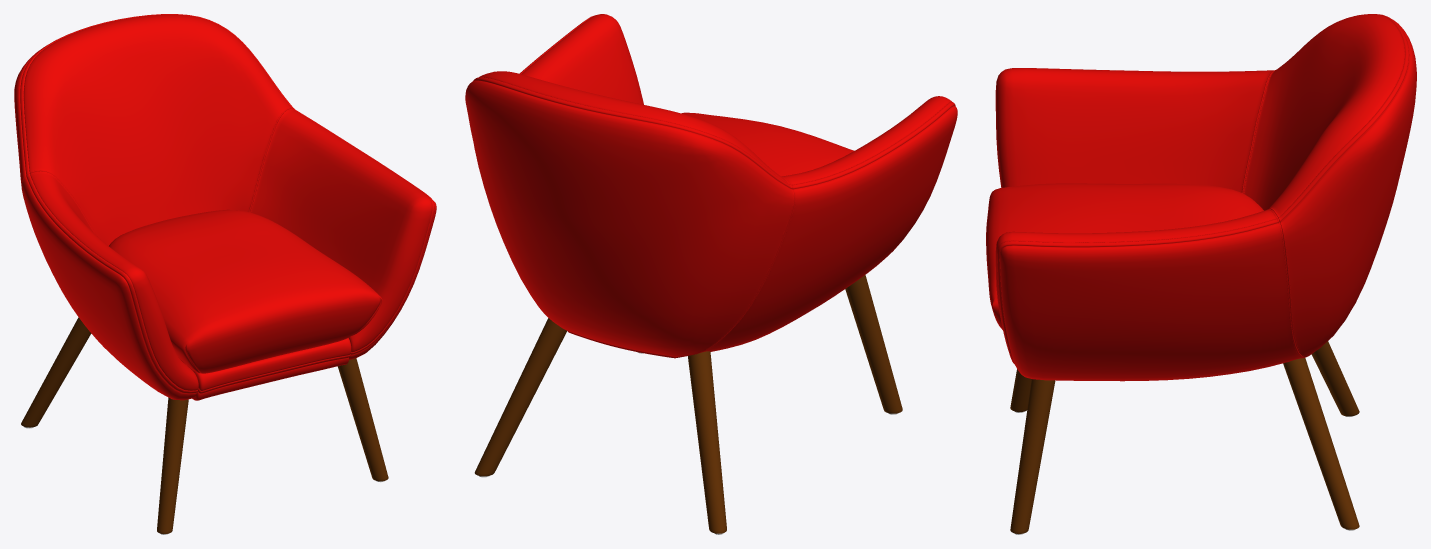
File: LorisWoodVariants.glb
3 renders of one model, left to right at view 1: azimuth 30°, elevation 25°; view 2: azimuth 150°, elevation 25°; view 3: azimuth 270°, elevation 25°, orthographic. The views are drawn at different scales.
Parts seen in each view (by area): view 1: Loris Armchair - Back, Loris Armchair - Seat, Loris Armchair - Legs; view 2: Loris Armchair - Back, Loris Armchair - Legs, Loris Armchair - Seat, Loris Armchair - Stiches; view 3: Loris Armchair - Back, Loris Armchair - Seat, Loris Armchair - Legs, Loris Armchair - Stiches.
Part boxes in pixels (x1,y1,x2,y2): Loris Armchair - Back: [14, 14, 436, 400]; Loris Armchair - Seat: [109, 209, 382, 373]; Loris Armchair - Legs: [21, 317, 388, 533]; Loris Armchair - Back: [465, 14, 957, 358]; Loris Armchair - Legs: [474, 275, 902, 533]; Loris Armchair - Seat: [681, 112, 854, 176]; Loris Armchair - Stiches: [480, 46, 951, 356]; Loris Armchair - Back: [995, 14, 1416, 381]; Loris Armchair - Seat: [986, 183, 1263, 329]; Loris Armchair - Legs: [1010, 341, 1359, 533]; Loris Armchair - Stiches: [998, 22, 1404, 357].
Bounding box in the file's own units: 0.6989 × 0.7596 × 0.7039.
